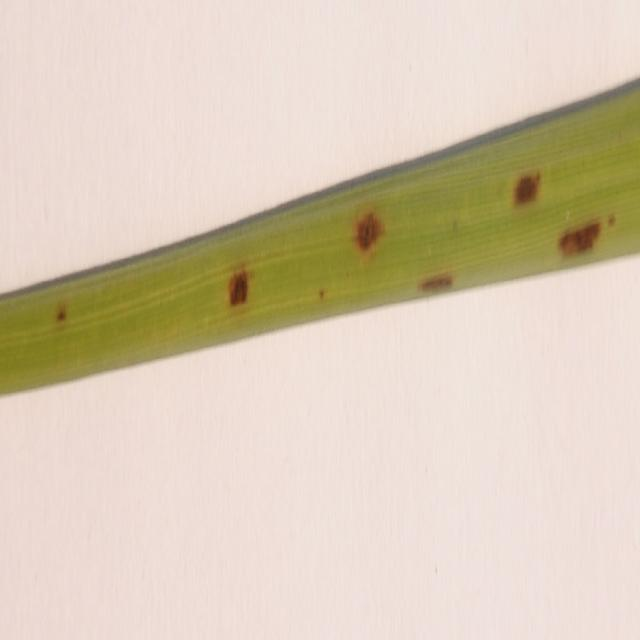Unhealthy: (560, 223, 601, 256), (513, 173, 544, 208), (355, 215, 382, 254), (225, 273, 249, 306), (422, 274, 452, 292), (56, 303, 70, 325), (608, 215, 616, 229)
